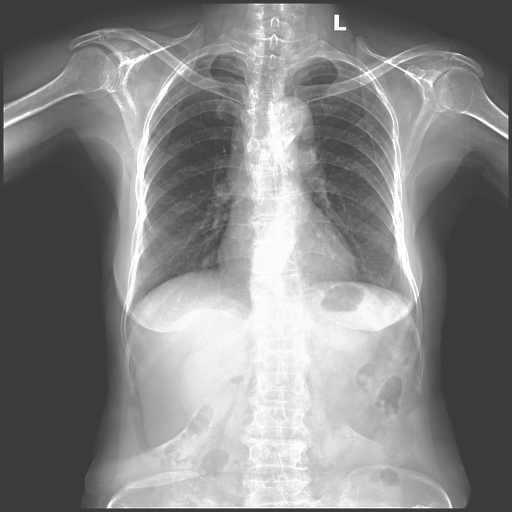Consolidation: (270, 96, 313, 145)
